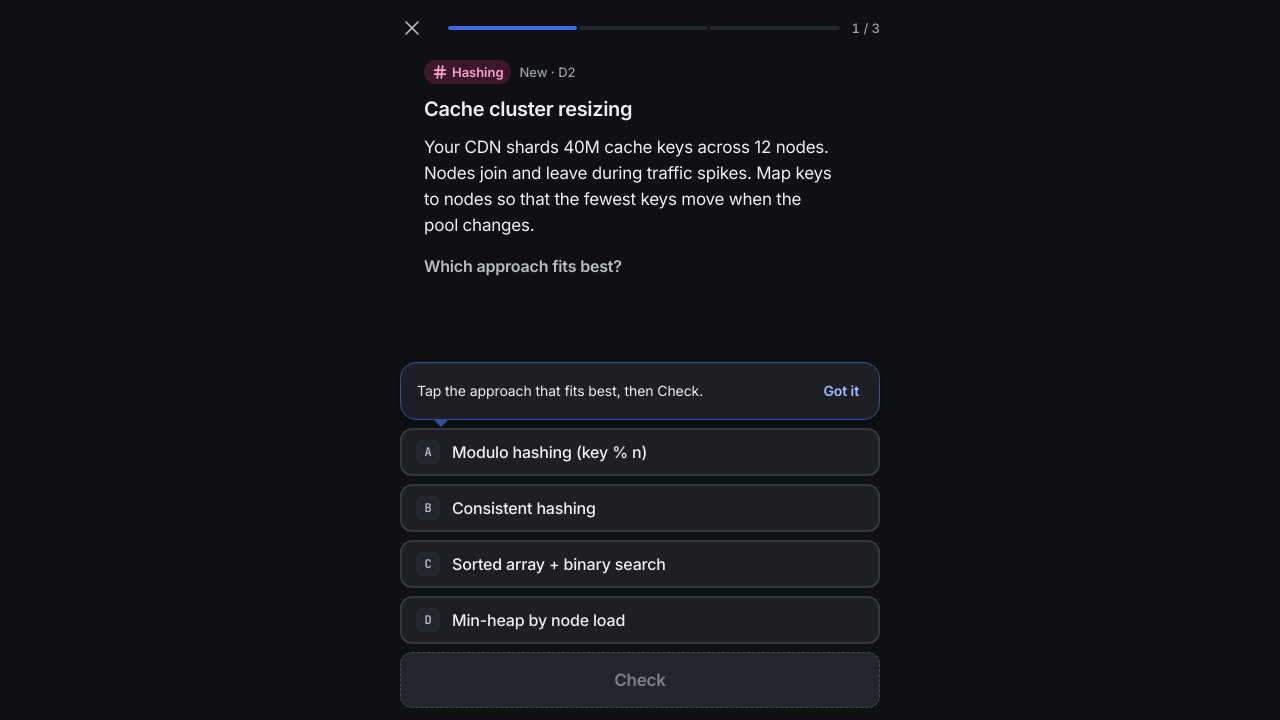
Test: Validation: Big-O › the explanation lists 'Your checks' with the Big-O row, a summary line and total XP
Click the radio button labelled "Consistent hashing": (524, 508) [400,484,880,532]
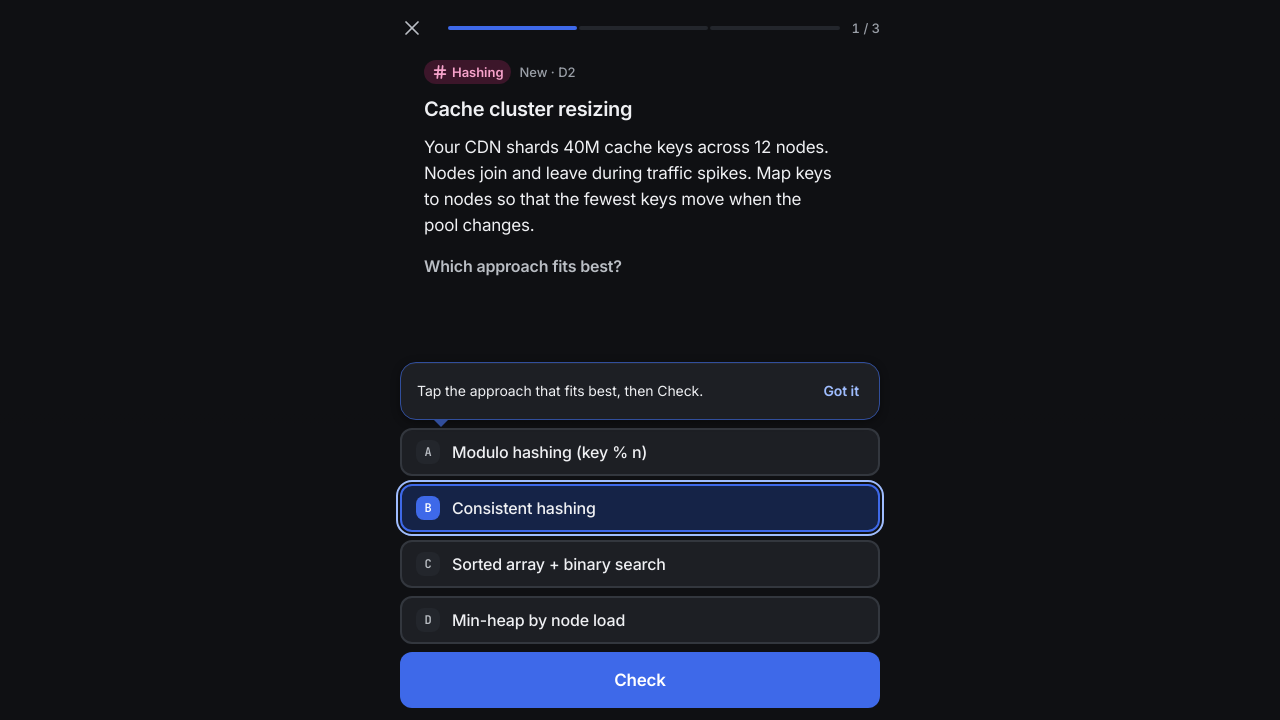
Click the button "Check": (640, 680) [400,652,880,708]
Wait 400 ms
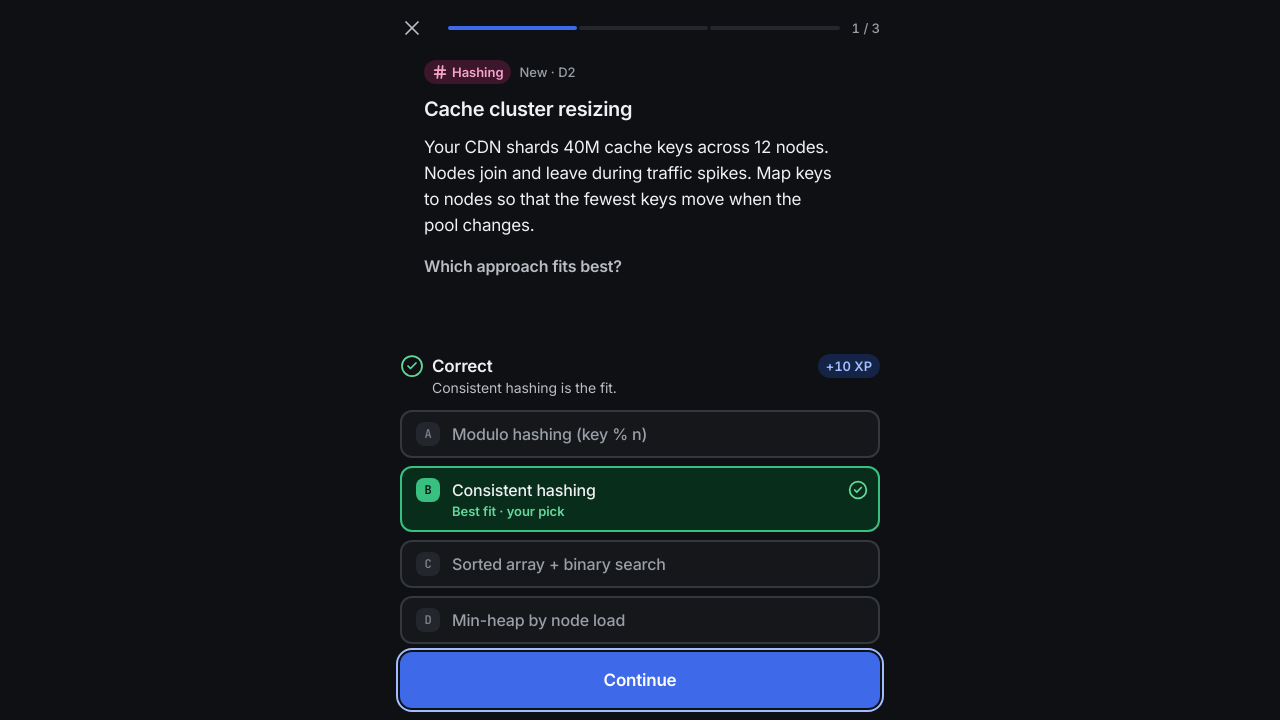
Click the button "Continue": (640, 680) [400,652,880,708]
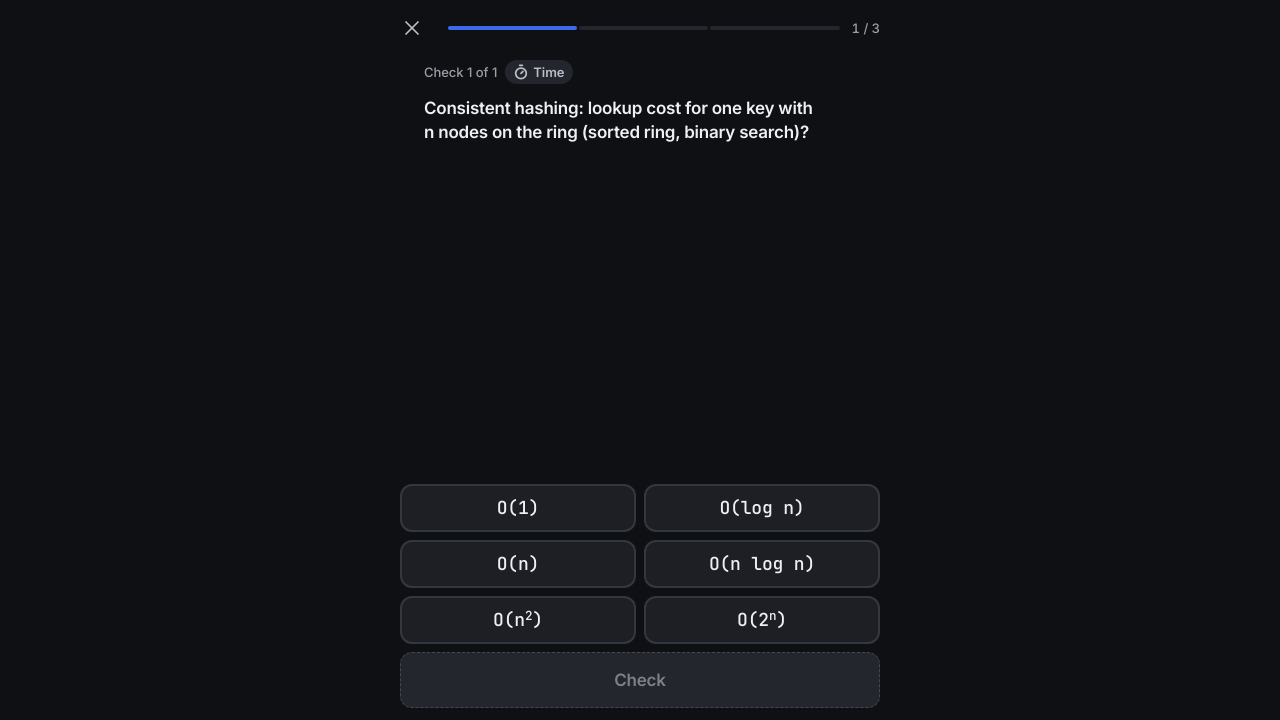
Click the radio button with aria-label "O of log n": (762, 508) [644,484,880,532]
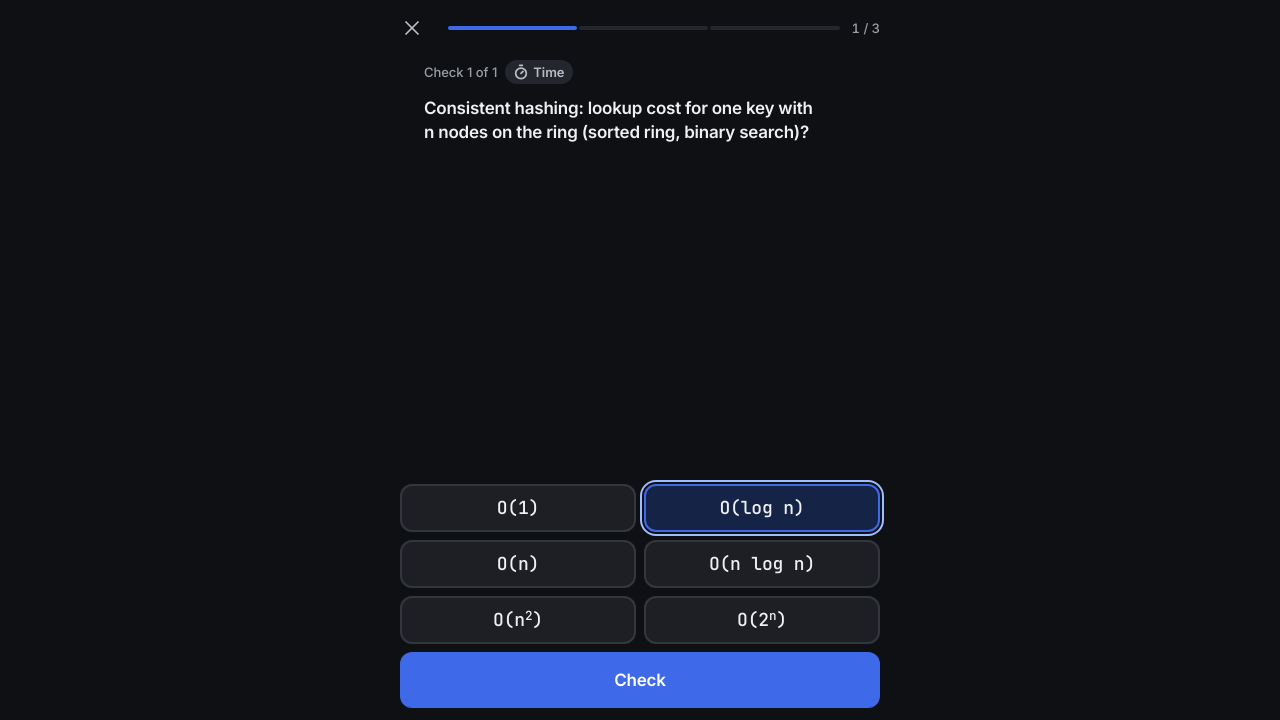
Click the button "Check": (640, 680) [400,652,880,708]
Wait 351 ms
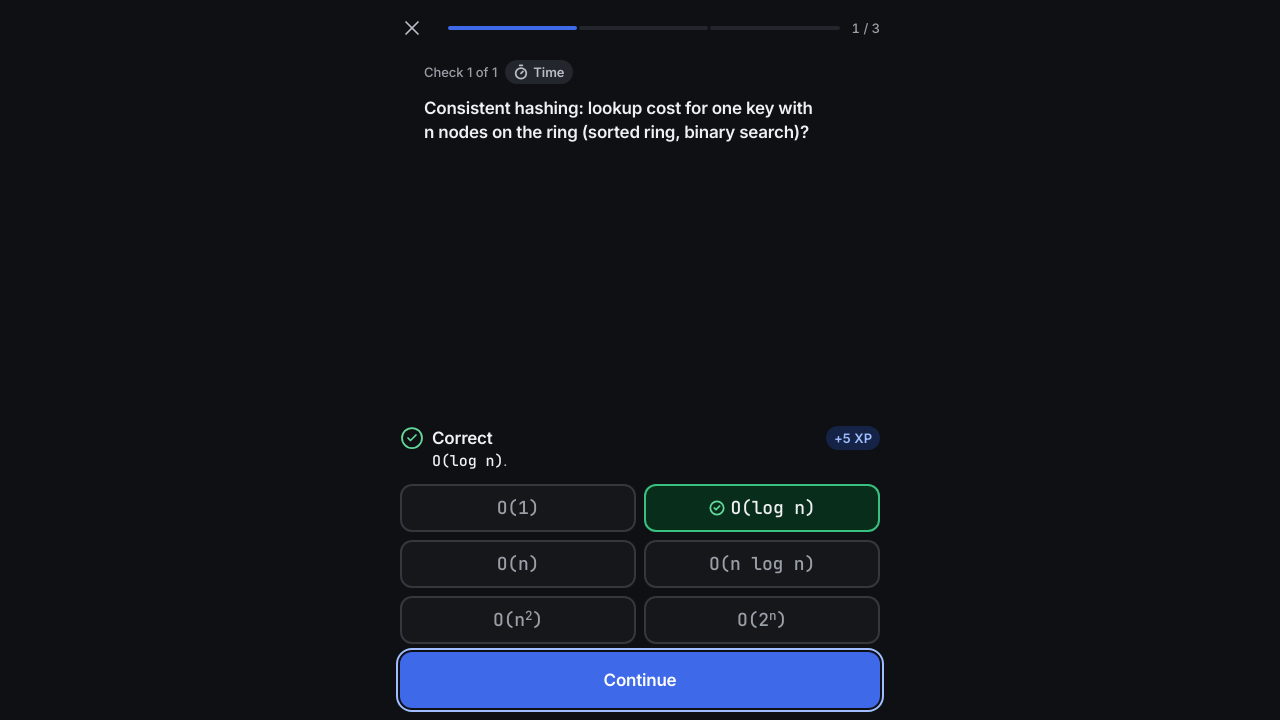
Click the button "Continue": (640, 680) [400,652,880,708]
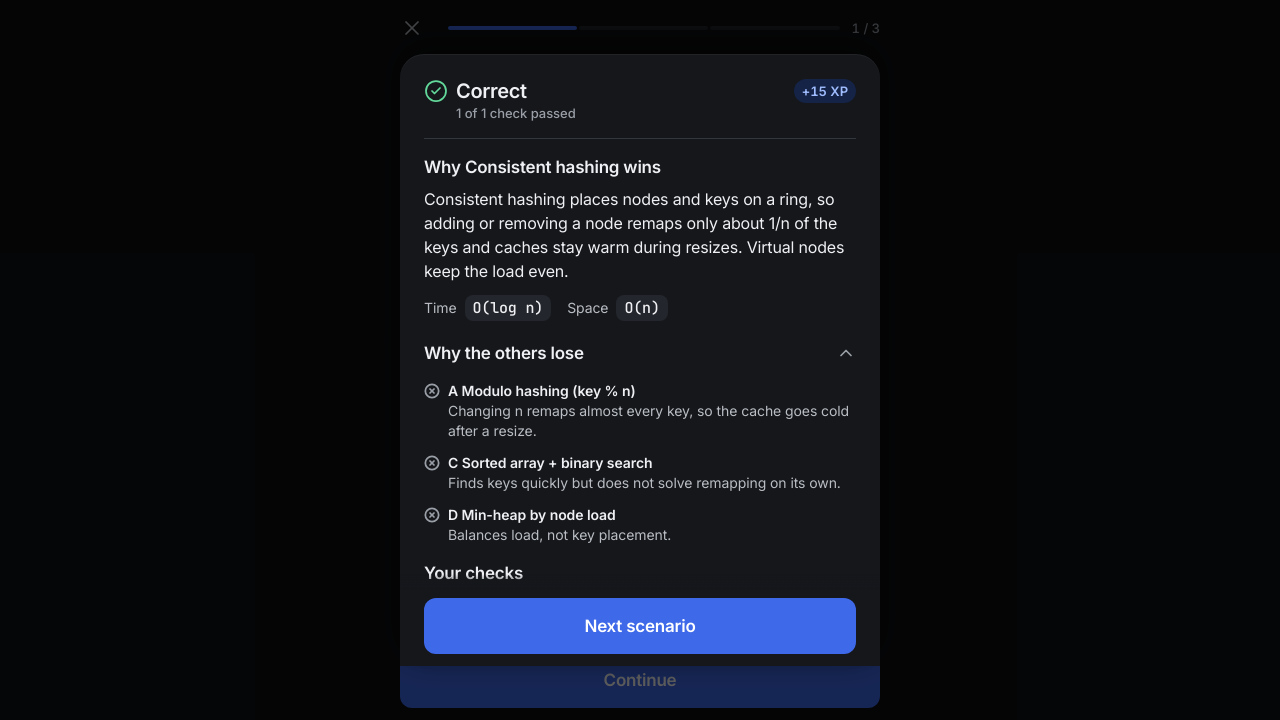
Check: the text "1 of 1 check passed" is shown, box [456,105,576,121]
Check: the text "+15 XP" is shown, box [794,79,856,103]
